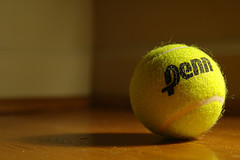tennis ball: (128, 42, 227, 141)
